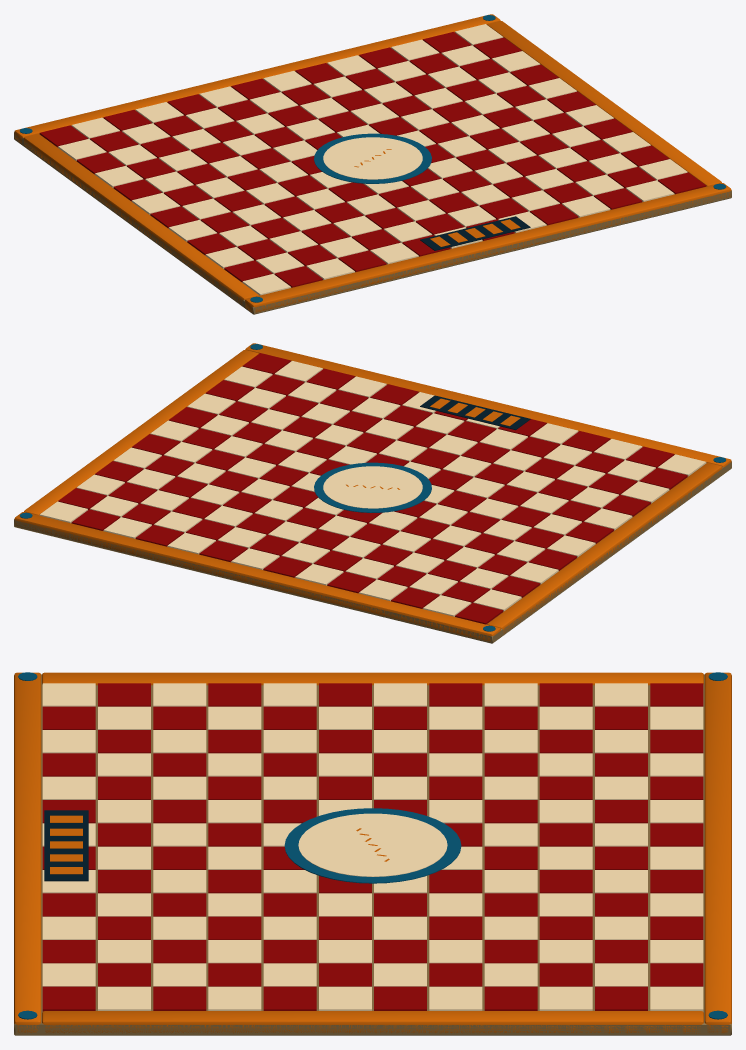
The model's file is DashFloor.obj.
The picture shows the model from 3 angles, top to bottom: view 1: azimuth 30°, elevation 25°; view 2: azimuth 150°, elevation 25°; view 3: azimuth 270°, elevation 25°; orthographic projection. The views are drawn at different scales.
Visible parts, largest first — view 1: DashFloor; view 2: DashFloor; view 3: DashFloor.
Part boxes in pixels (left/top/right/bottom): DashFloor: left=14, top=14, right=731, bottom=314; DashFloor: left=14, top=343, right=731, bottom=643; DashFloor: left=14, top=672, right=731, bottom=1035.
Bounding box in the file's own units: 30 × 0.655 × 26.
